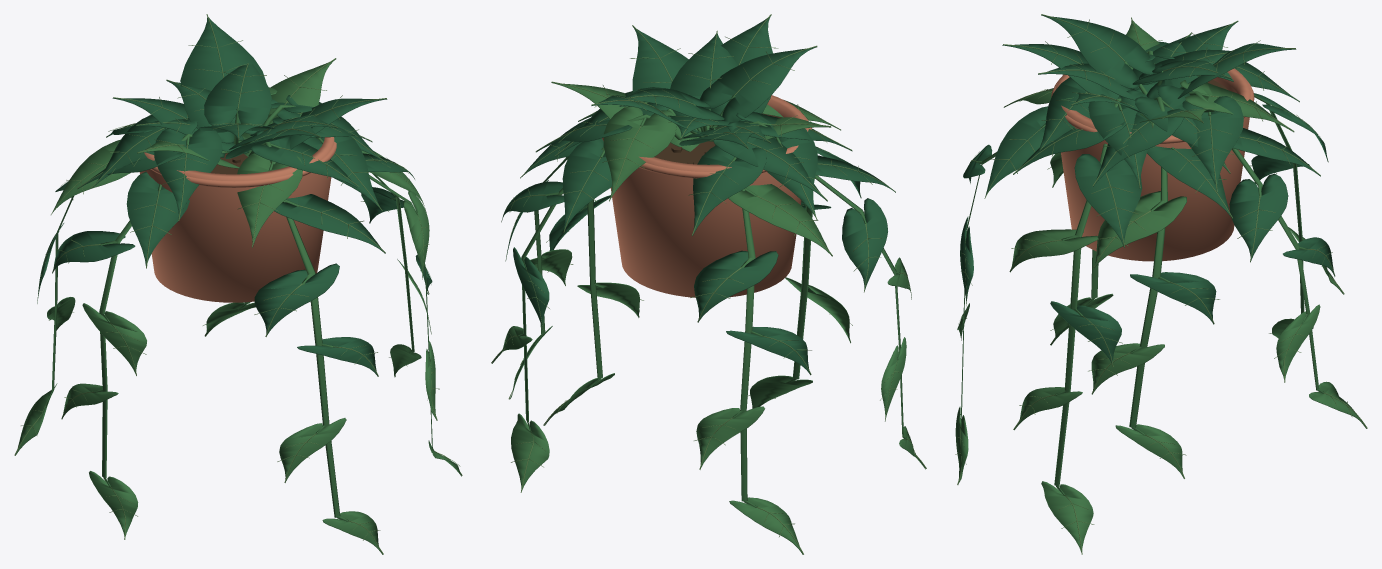
File: trailing-pothos-in-shelf-pot.glb
The picture shows the model from 3 angles, left to right: view 1: azimuth 30°, elevation 25°; view 2: azimuth 150°, elevation 25°; view 3: azimuth 270°, elevation 25°; orthographic projection. The views are drawn at different scales.
Parts seen in each view (by area): view 1: trailing-pothos-in-shelf-pot authored assembly; view 2: trailing-pothos-in-shelf-pot authored assembly; view 3: trailing-pothos-in-shelf-pot authored assembly.
Part boxes in pixels (x1=…): trailing-pothos-in-shelf-pot authored assembly: x1=14, y1=14, x2=462, y2=554; trailing-pothos-in-shelf-pot authored assembly: x1=491, y1=14, x2=926, y2=554; trailing-pothos-in-shelf-pot authored assembly: x1=955, y1=14, x2=1367, y2=554.
Bounding box in the file's own units: 0.47 × 0.52 × 0.45.
